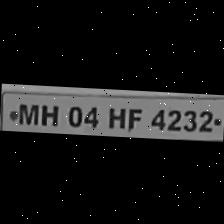0: (62, 101, 84, 127)
2: (195, 106, 214, 134), (164, 104, 182, 132)
3: (180, 104, 198, 132)
4: (146, 104, 168, 131), (81, 101, 101, 128)
F: (124, 104, 144, 130)
H: (103, 101, 127, 129), (36, 100, 60, 126)
M: (12, 100, 36, 124)
